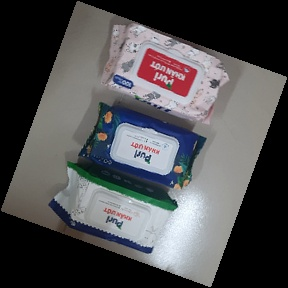Puri Trang: (47, 160, 179, 258)
Puri Xanh: (77, 102, 208, 193)
Puri hong: (98, 22, 229, 126)
